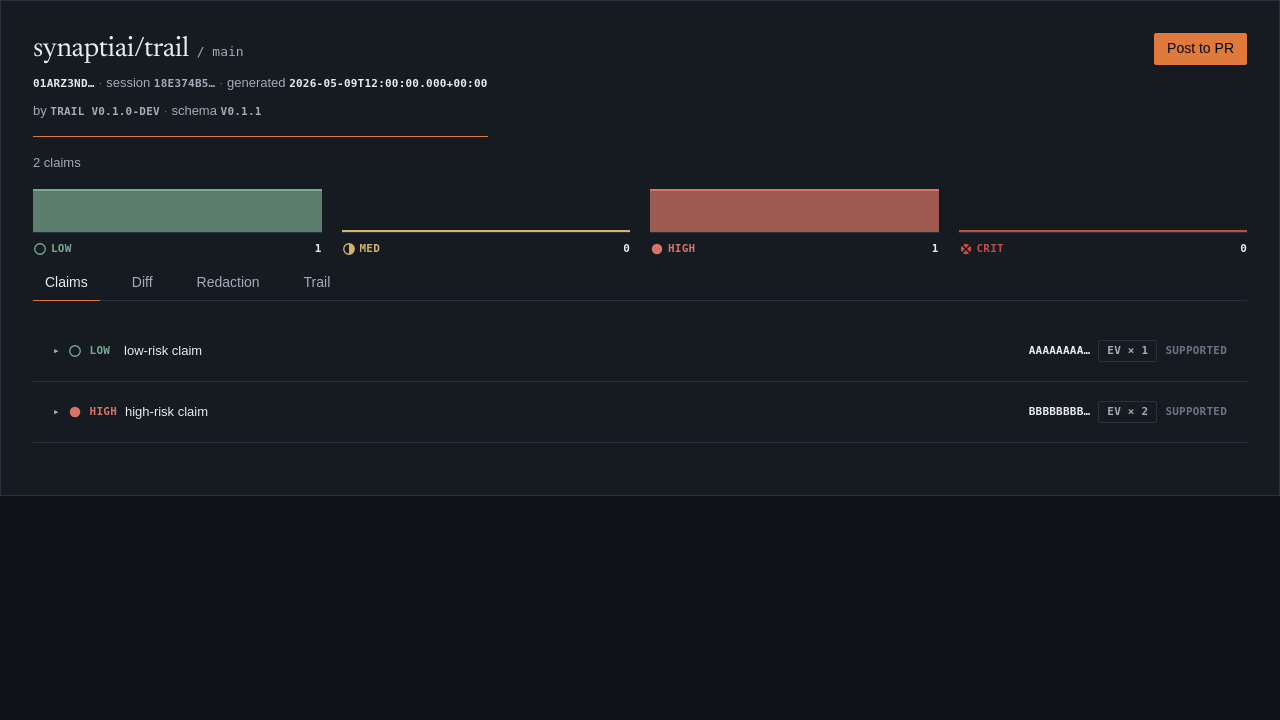
Test: <PacketView> — Sprint 3a integration › Trail tab renders empty-state when approval_trail is empty
Click the tab "Trail" at (317, 282), box x1=292 y1=265 x2=342 y2=300
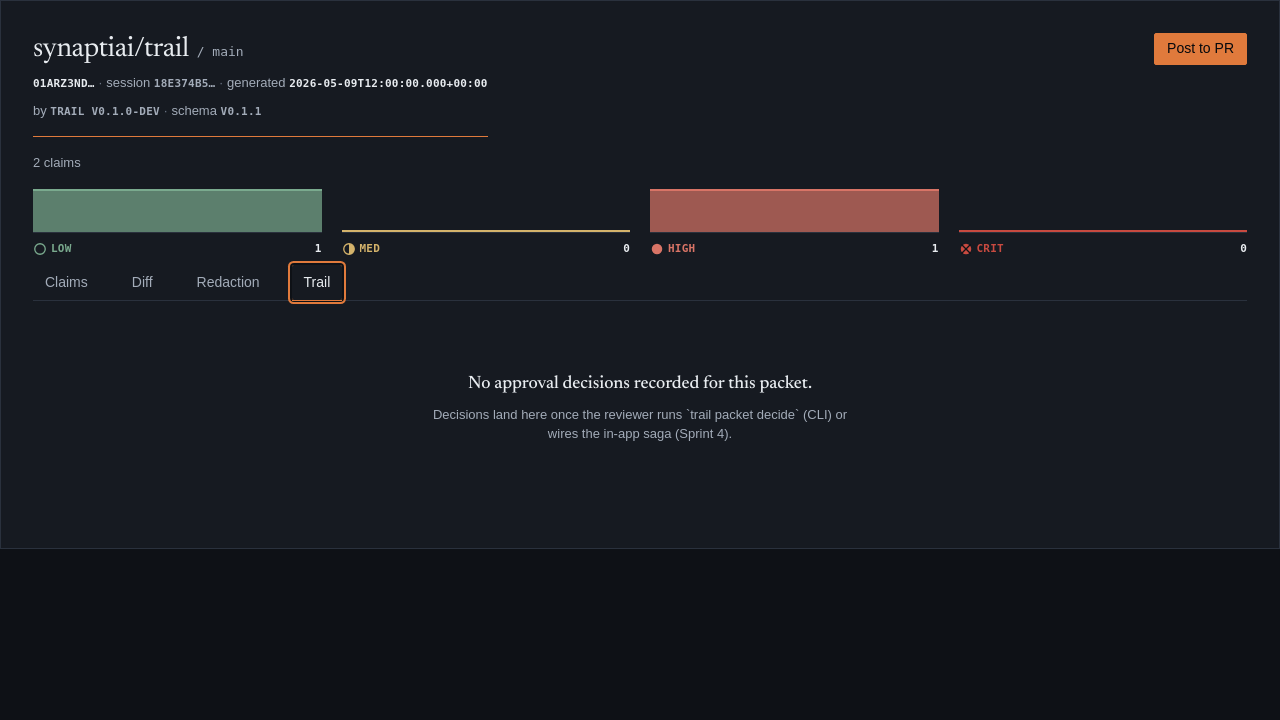
Expected: the heading "No approval decisions recorded for this packet." is shown, x1=468 y1=373 x2=812 y2=397
